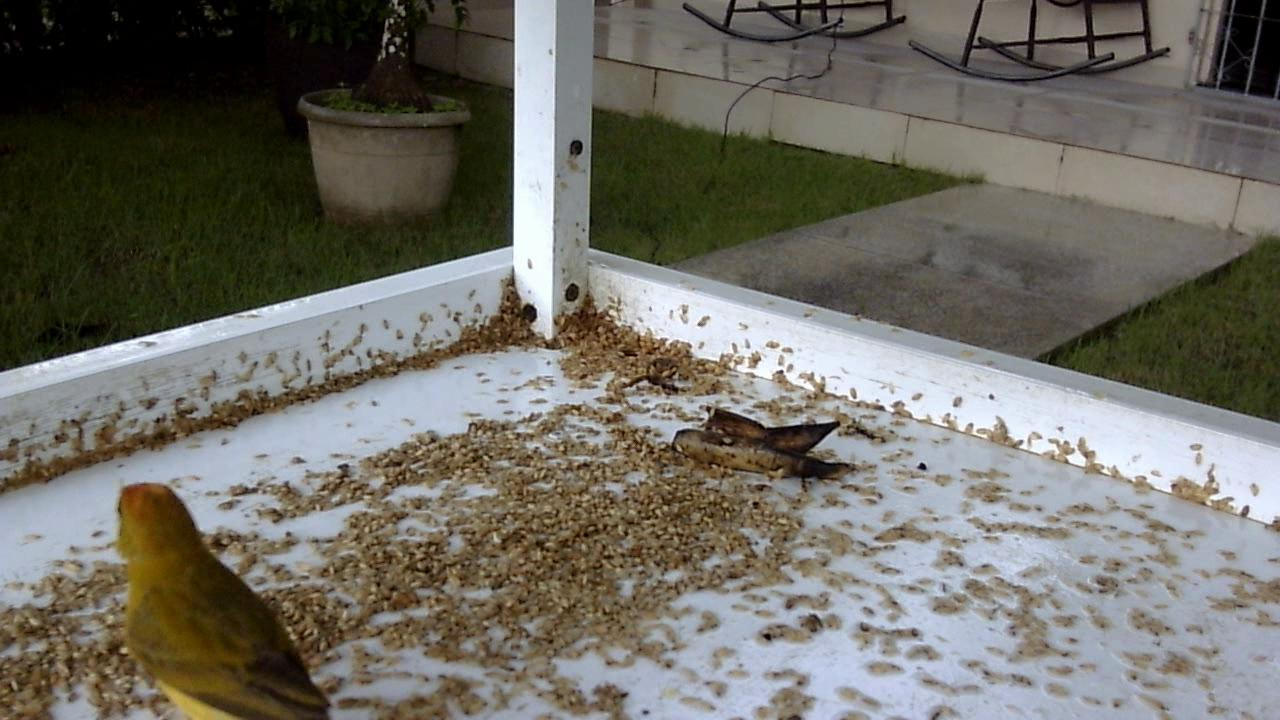canario_do_amazonas: (104, 472, 338, 715)
